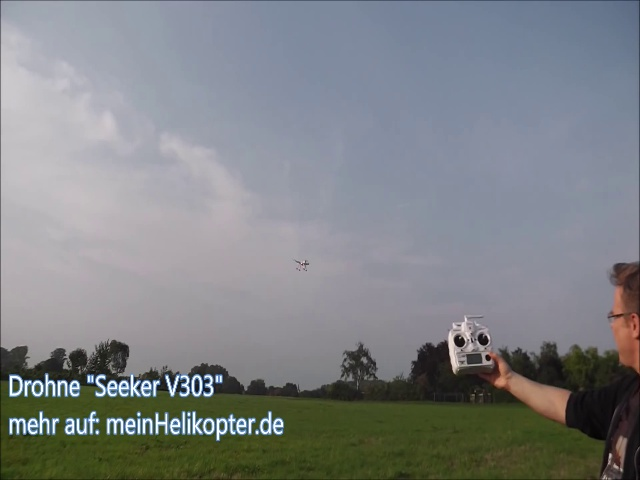drone: (292, 256, 311, 272)
